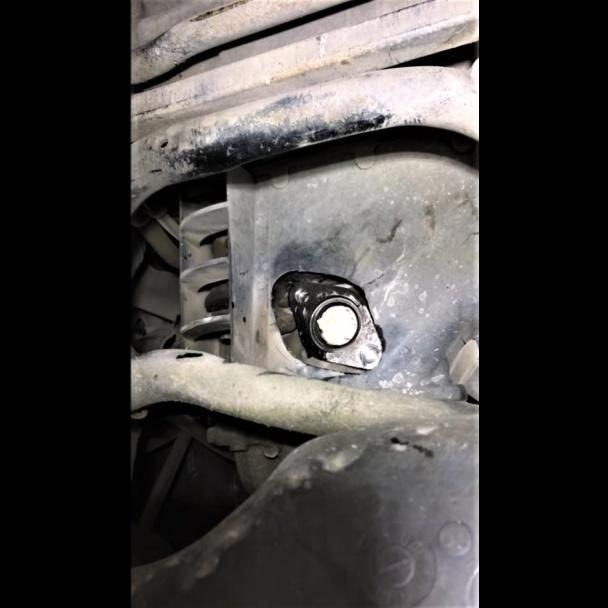hole: (356, 343, 381, 366), (292, 286, 311, 304)
